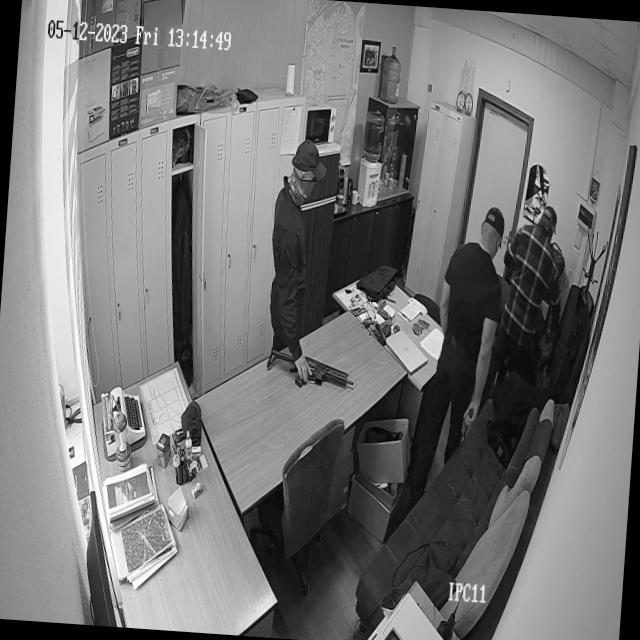gun: (266, 344, 357, 392), (458, 404, 476, 447)
person: (498, 200, 566, 374)
person with a gun: (429, 209, 501, 453), (264, 142, 326, 358)
